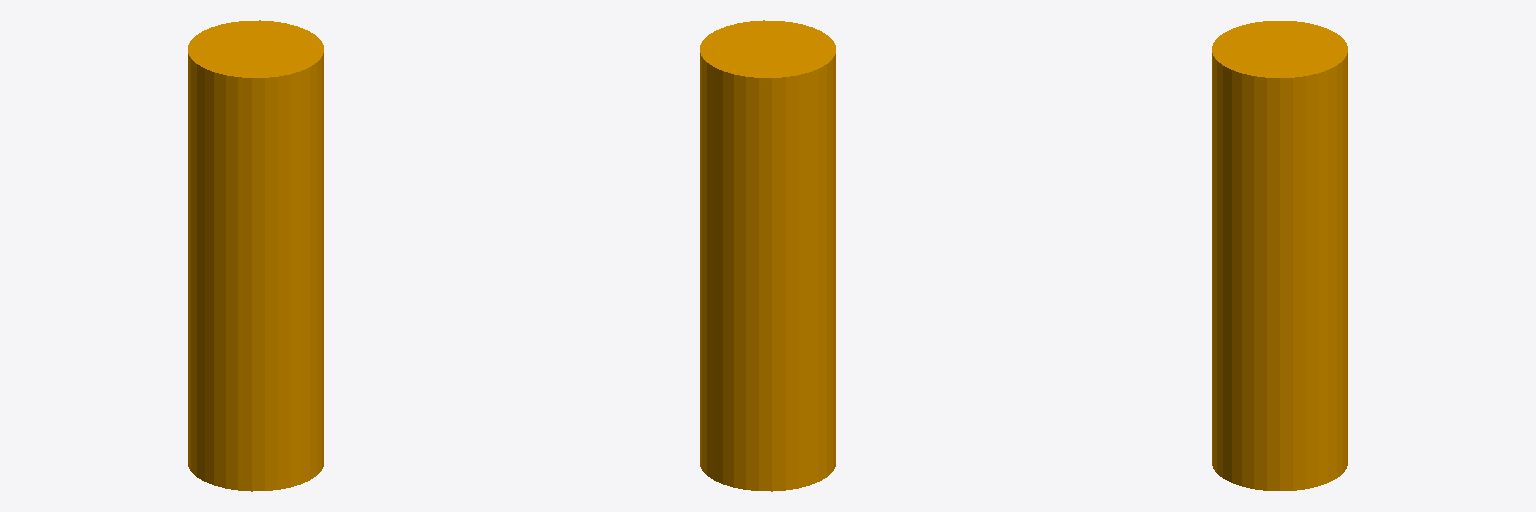
The robot description file, URDF, robot "box":
<robot name="box">
  <link name="my_box">
    <inertial>
      <origin xyz="0 0 0" />
      <mass value="1.0" />
      <inertia  ixx="1.0" ixy="0.0"  ixz="0.0"  iyy="100.0"  iyz="0.0"  izz="1.0" />
    </inertial>
    <visual>
      <origin xyz="0 0 1"/>
      <geometry>
        <cylinder length="2" radius="0.3"/>
      </geometry>
    </visual>
    <collision>
      <origin xyz="0 0 1"/>
      <geometry>
        <cylinder length="2" radius="0.3"/>
      </geometry>
    </collision>
  </link>
  <gazebo reference="my_box">
    <material>Gazebo/Red</material>
  </gazebo>
</robot>

--- Render facts (derived) ---
The picture shows the robot from 3 angles, left to right: view 1: azimuth 30°, elevation 25°; view 2: azimuth 150°, elevation 25°; view 3: azimuth 270°, elevation 25°; orthographic projection.
Robot: box — 1 links, 0 joints (none); root link my_box; default pose: all joints at 0.
Visible links, largest first — view 1: my_box; view 2: my_box; view 3: my_box.
Link boxes in pixels (<box>): my_box: <box>188,20,323,491</box>; my_box: <box>700,20,835,491</box>; my_box: <box>1212,21,1347,490</box>.
Size in the robot's own frame: 0.6 by 0.6 by 2 metres.
Geometry: primitives only (box / cylinder / sphere), no mesh files.
